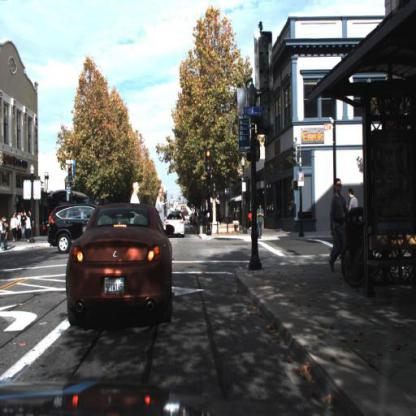car: (63, 201, 174, 326), (46, 204, 96, 252)
pedestrian: (324, 179, 353, 268), (129, 180, 147, 222), (154, 182, 169, 224), (257, 202, 267, 240), (255, 203, 265, 239), (346, 188, 360, 212), (24, 209, 32, 244), (3, 221, 11, 251), (20, 212, 28, 240), (28, 207, 35, 239), (3, 221, 10, 251), (10, 213, 18, 238), (21, 212, 27, 243)
trafficLight-Red: (206, 148, 213, 172), (68, 163, 74, 179)
